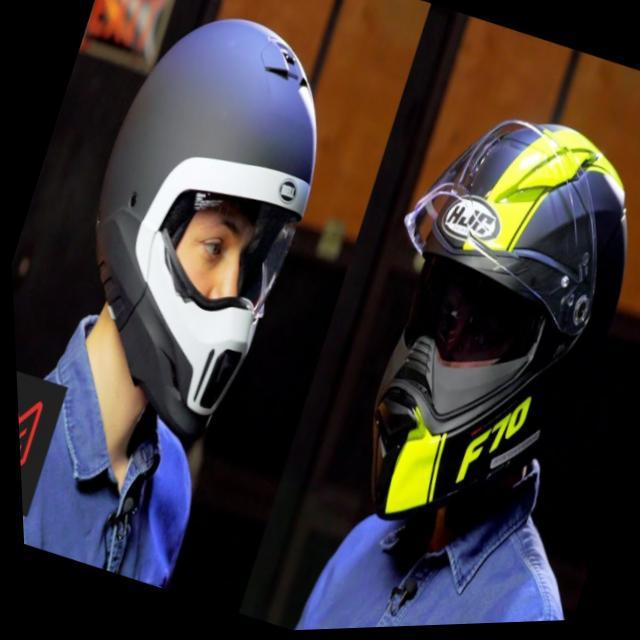Helmet: (363, 103, 633, 538), (91, 16, 321, 439)
